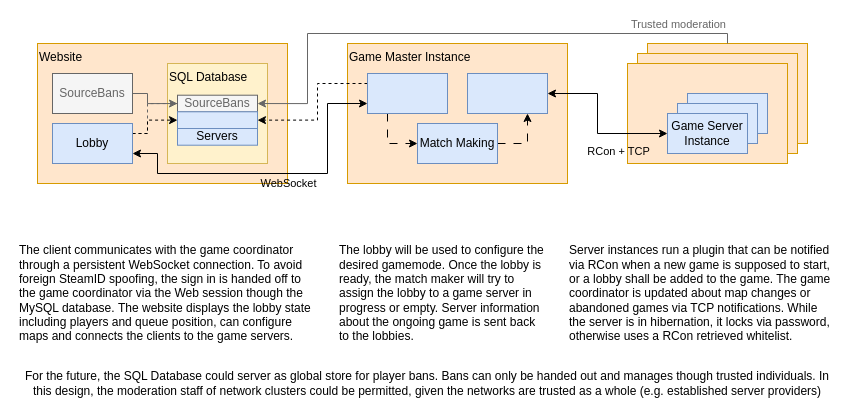
Some shapes in this 854 by 420 pixel diagram are drawn without their labels. The shapes that lost their labels are listed below. From the top down, each one's box as (x1, y1, x2, y2) in pixels, then its label:
(366, 72, 448, 114): Lobby Management
(466, 72, 548, 114): Game Server Management
(626, 62, 788, 164): Networks / Clusters
(176, 111, 258, 128): Session
